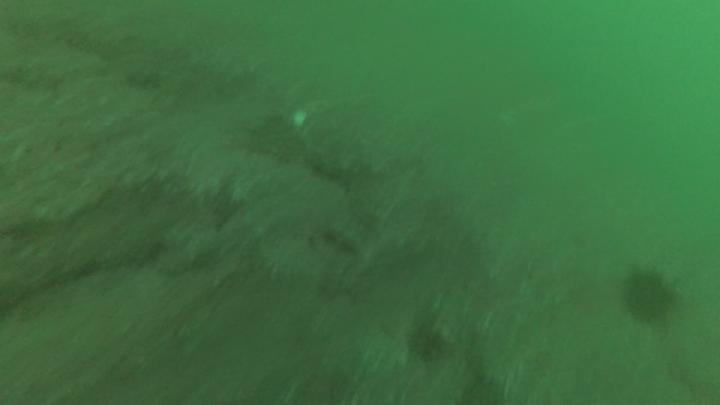echinus: (618, 258, 688, 330)
